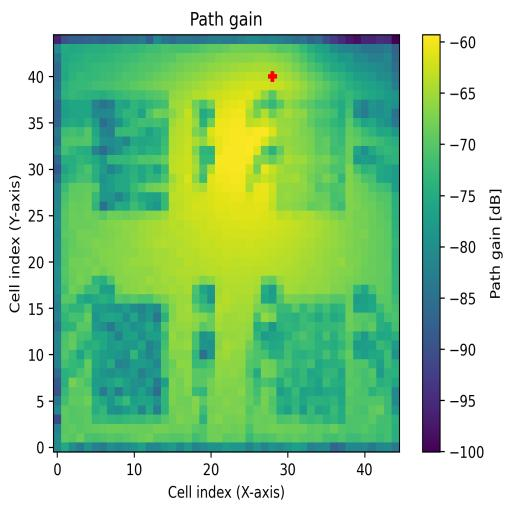Concrete: (276, 100, 346, 212)
Glass: (91, 101, 170, 210)
Metal: (276, 304, 346, 424)
Wood: (90, 302, 169, 416)
